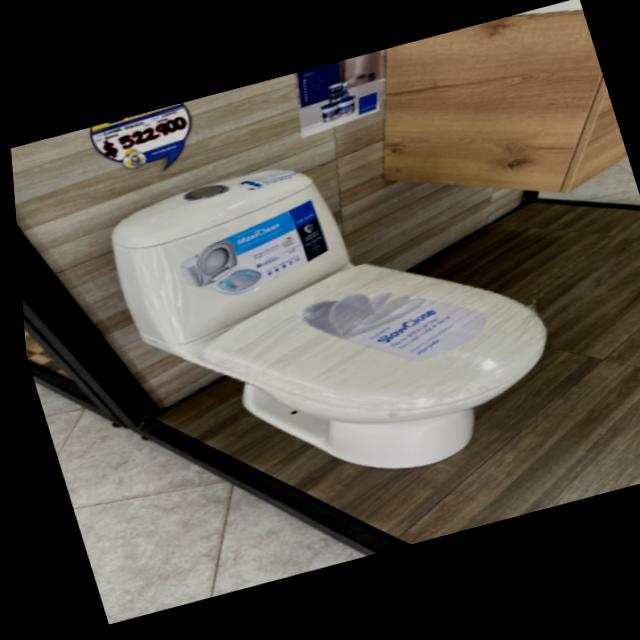toilet: (88, 111, 574, 530)
